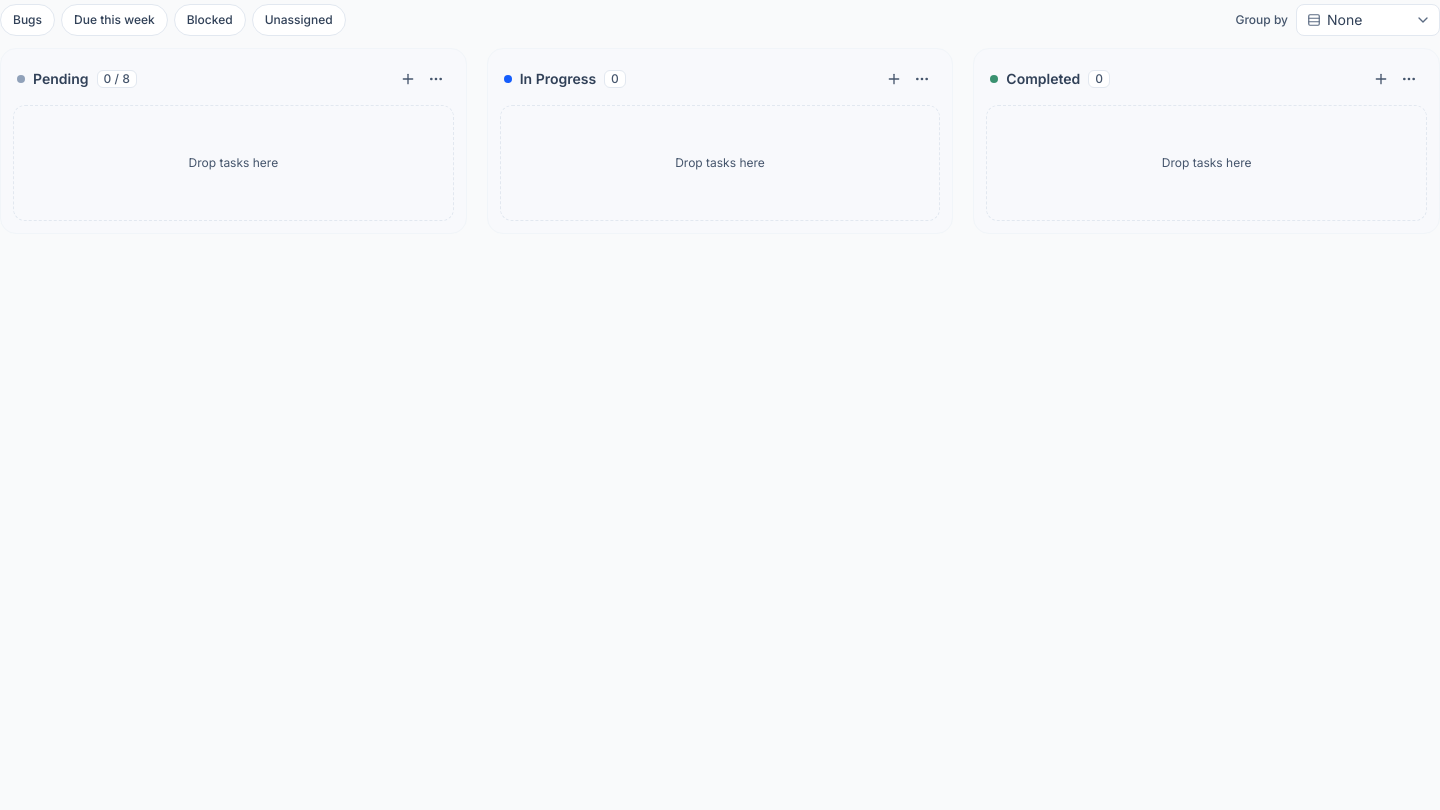
Test case: BoardView WIP limits › saves limits from the column menu
Check: the text "0 / 8" is shown, box [96, 70, 137, 88]
Click the button named "Options for In Progress column" at (922,79), box [908, 65, 936, 93]
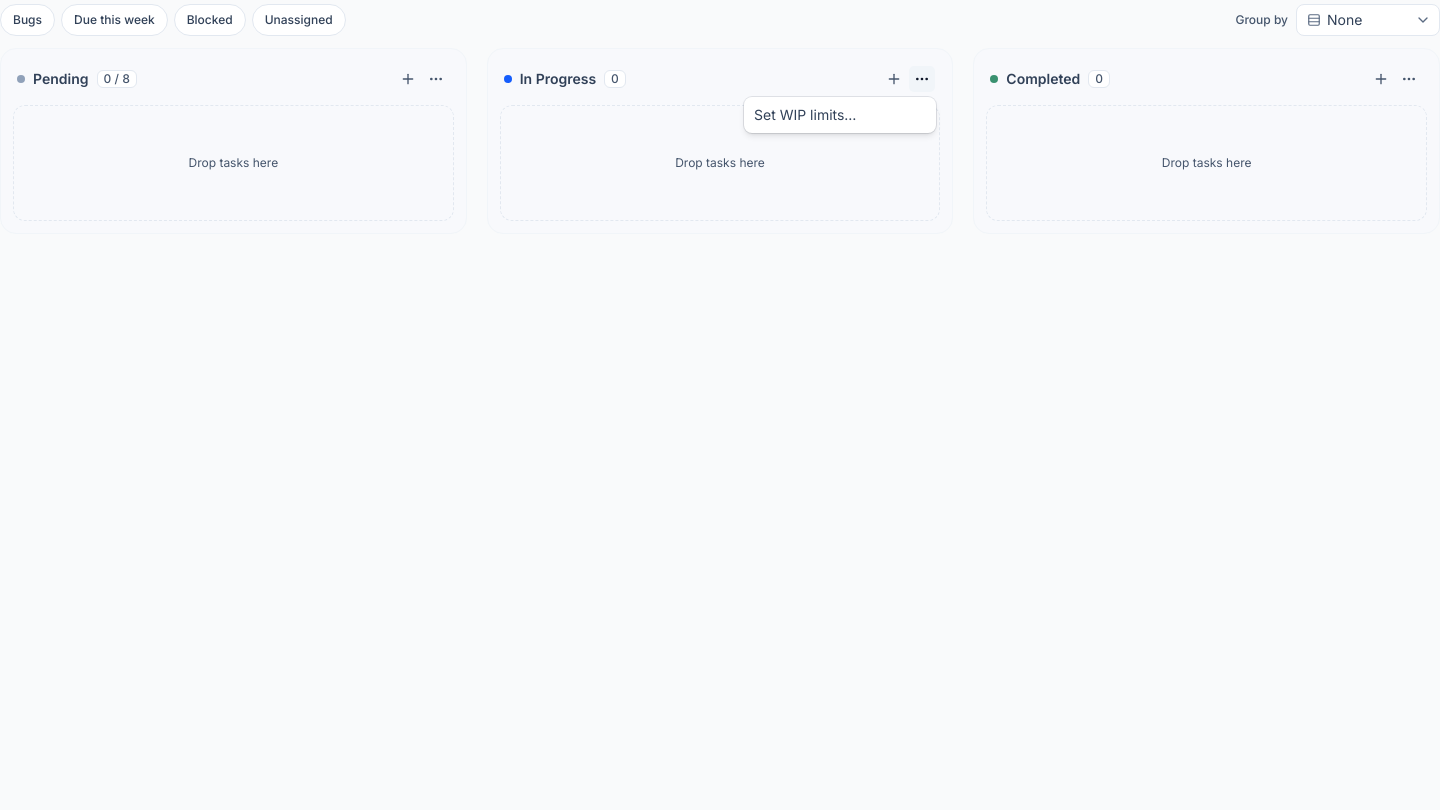
Click the menu item "Set WIP limits…" at (805,114), box [754, 106, 856, 123]
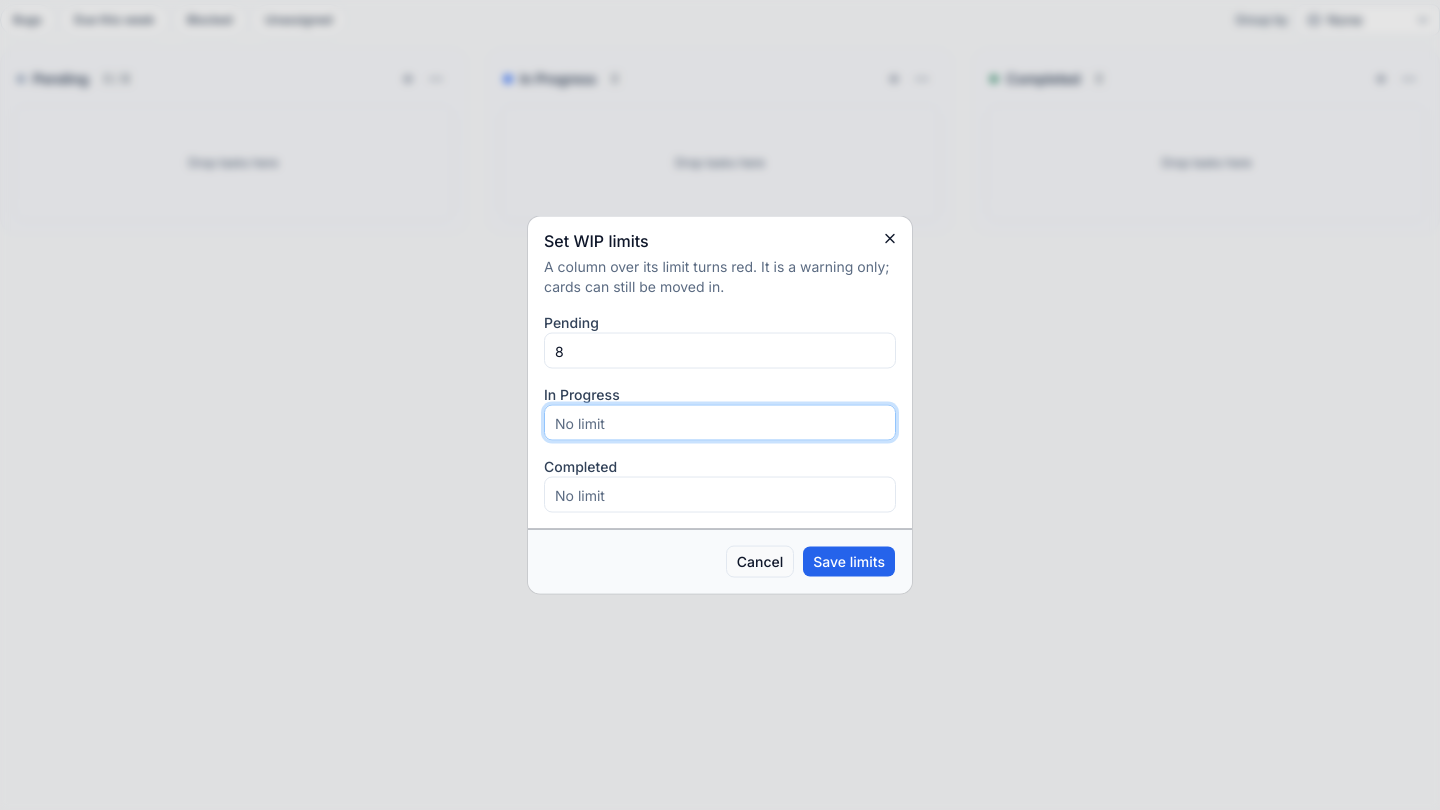
Check: the field labelled "Pending" holds "8", box [544, 332, 896, 368]
Type "3" into the field labelled "In Progress" at (720,422), box [544, 404, 896, 440]
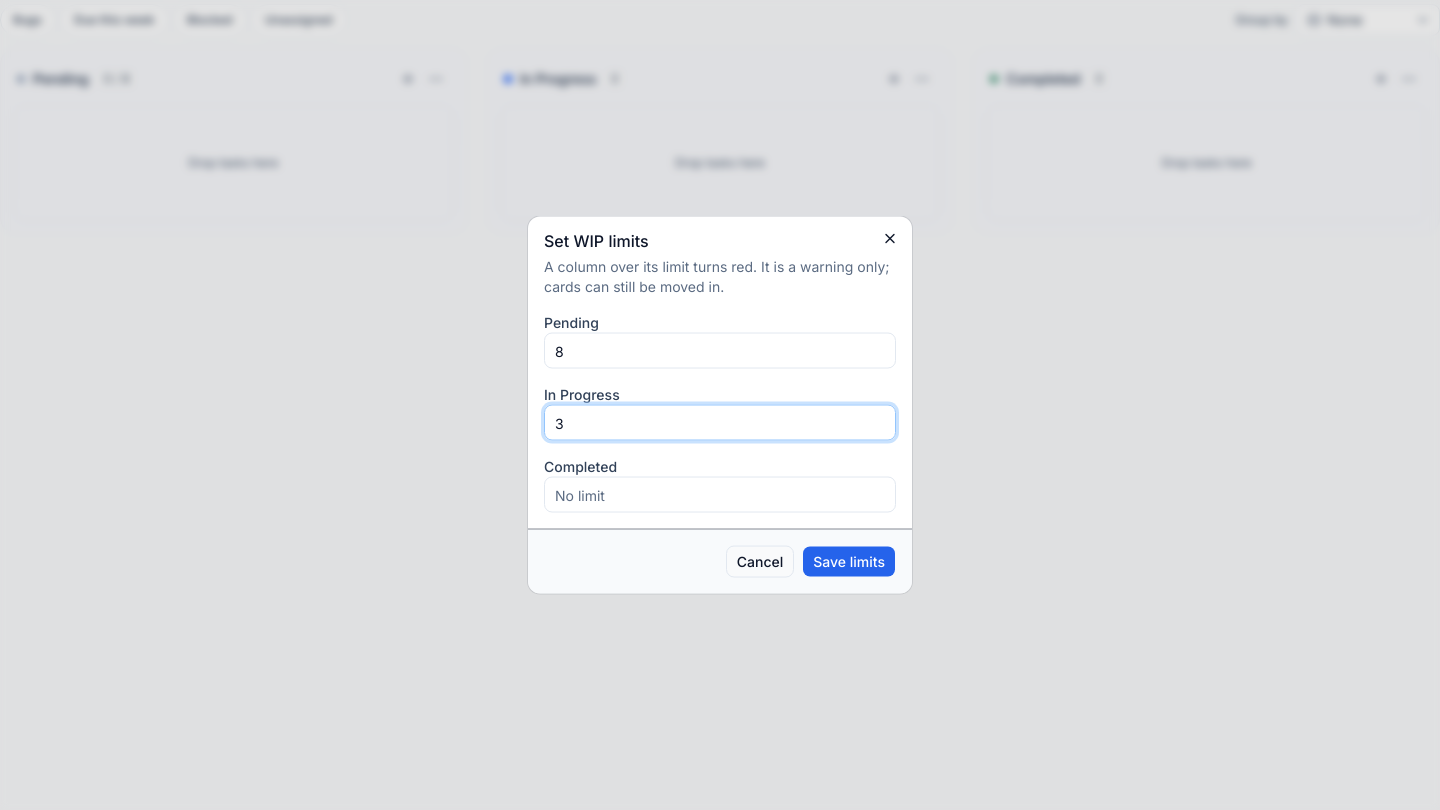
Click the button "Save limits" at (849,562), box [802, 546, 896, 578]
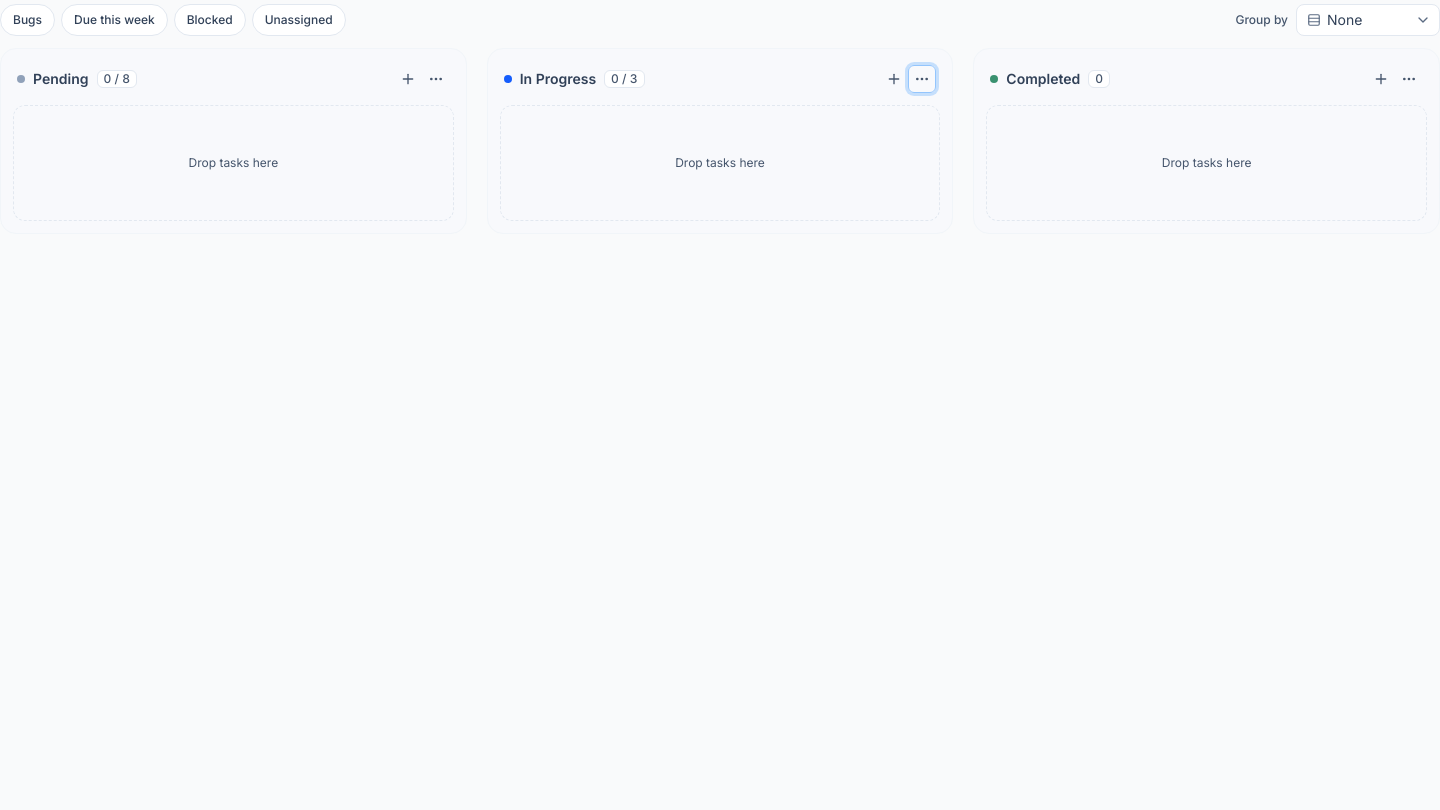
Check: the dialog is gone
Check: the text "0 / 3" is shown, box [604, 70, 644, 88]
